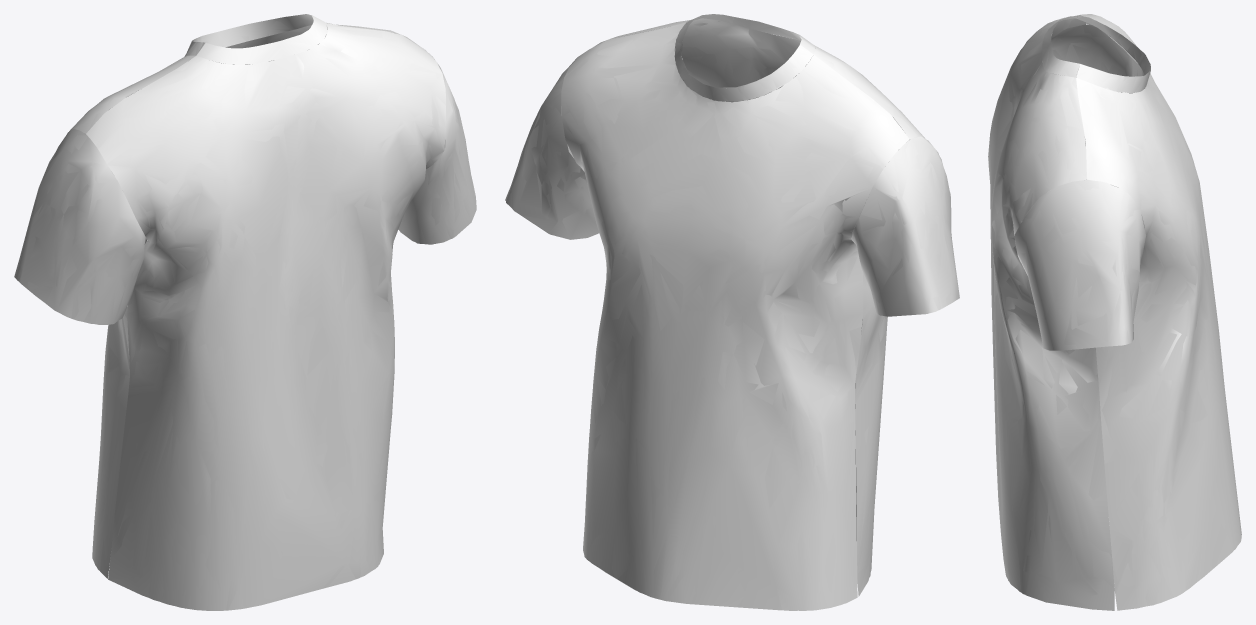
Rendered from t_shirt.obj.
The picture shows the model from 3 angles, left to right: view 1: azimuth 30°, elevation 25°; view 2: azimuth 150°, elevation 25°; view 3: azimuth 270°, elevation 25°; orthographic projection. The views are drawn at different scales.
Visible parts, largest first — view 1: t_shirt; view 2: t_shirt; view 3: t_shirt.
Part boxes in pixels (x1,y1,x2,y2): t_shirt: (14,14,476,610); t_shirt: (505,14,959,610); t_shirt: (988,14,1241,610).
Bounding box in the file's own units: 2.9 × 3.36 × 1.5.
3 materials, 1 textured.
